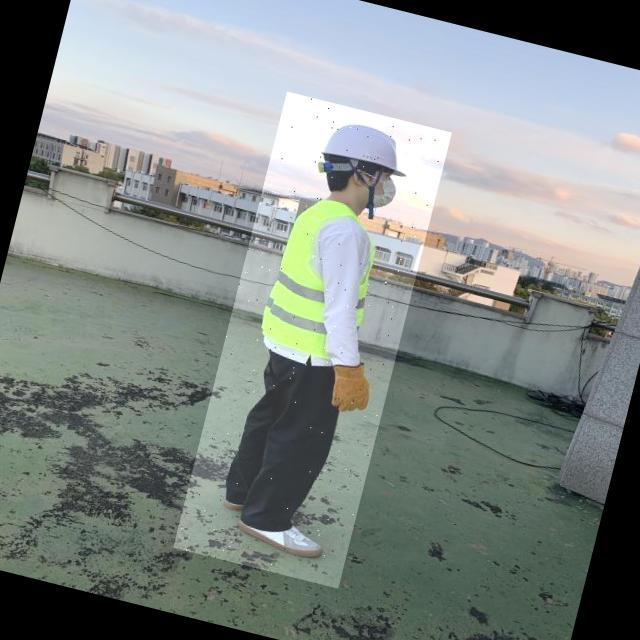Gloves: (323, 355, 379, 418)
Helmet: (320, 116, 417, 179)
Person: (216, 94, 429, 571)
Safety Boot: (233, 511, 327, 561)
Safety Vest: (256, 191, 389, 366)
